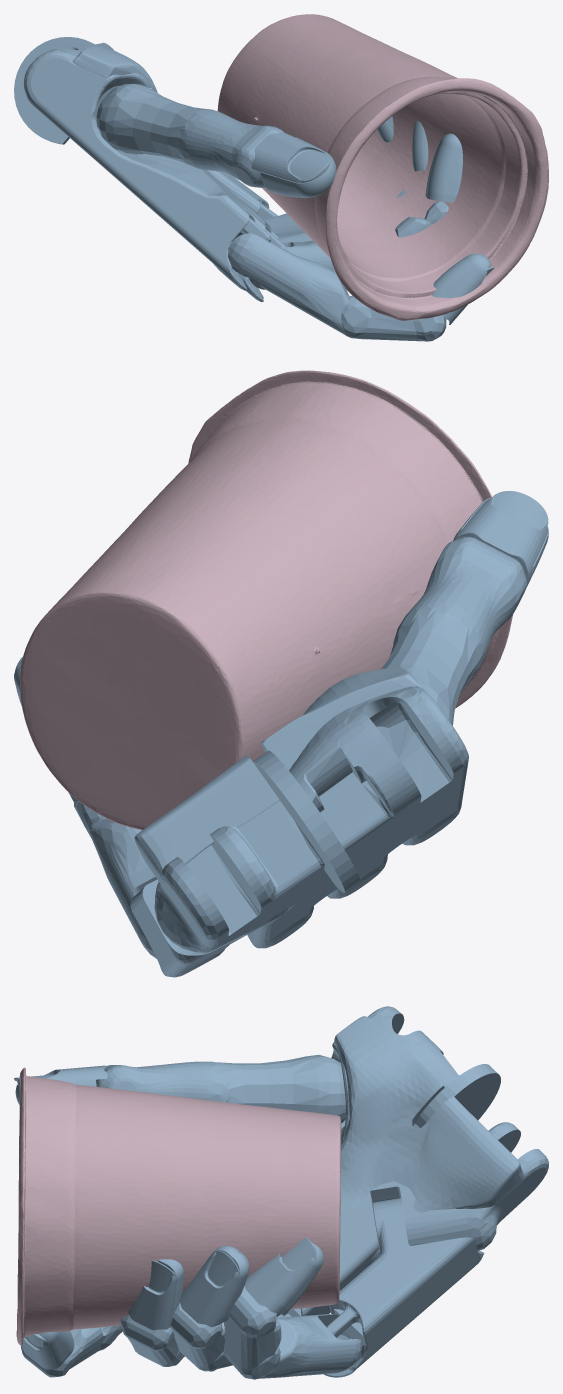
The picture shows the model from 3 angles, top to bottom: view 1: azimuth 30°, elevation 25°; view 2: azimuth 150°, elevation 25°; view 3: azimuth 270°, elevation 25°; orthographic projection. The views are drawn at different scales.
Visible parts, largest first — view 1: obj_mesh_grasp_10.obj, world; view 2: obj_mesh_grasp_10.obj, world; view 3: world, obj_mesh_grasp_10.obj.
Boxes of the visible parts, bbox=[...] form: obj_mesh_grasp_10.obj: bbox=[217, 14, 548, 320]; world: bbox=[14, 37, 494, 341]; obj_mesh_grasp_10.obj: bbox=[20, 370, 512, 829]; world: bbox=[14, 491, 548, 977]; world: bbox=[14, 1006, 548, 1379]; obj_mesh_grasp_10.obj: bbox=[16, 1067, 341, 1345].
Size of the model in its own units: 0.1491 by 0.1157 by 0.1792.
